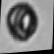correct: (0, 2, 41, 52)
